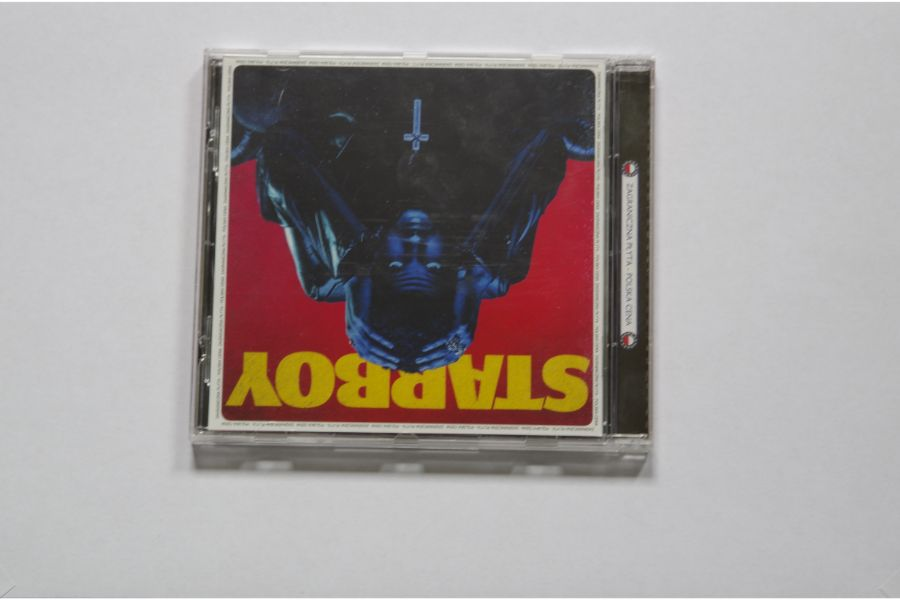album: (190, 44, 661, 458)
